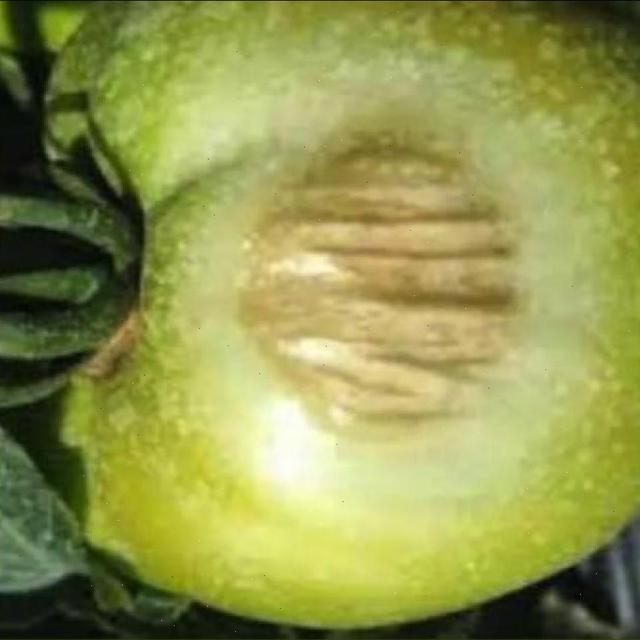Sunscald Fruit: (132, 71, 341, 308)
